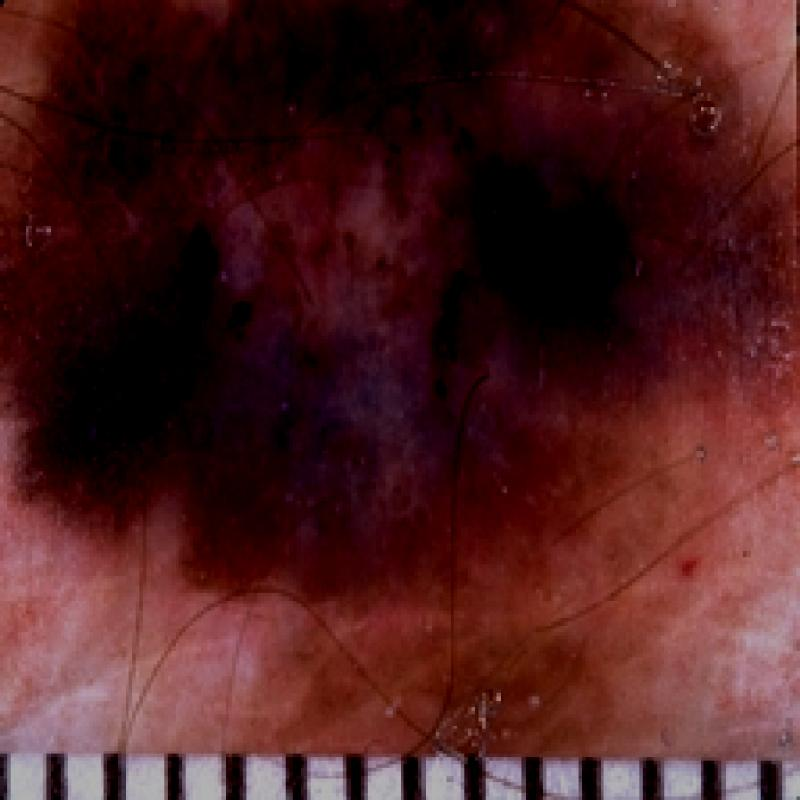malignant: (0, 0, 800, 582), (588, 644, 589, 645)
